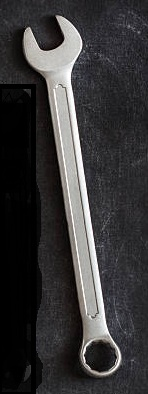Job: (14, 4, 133, 306)
